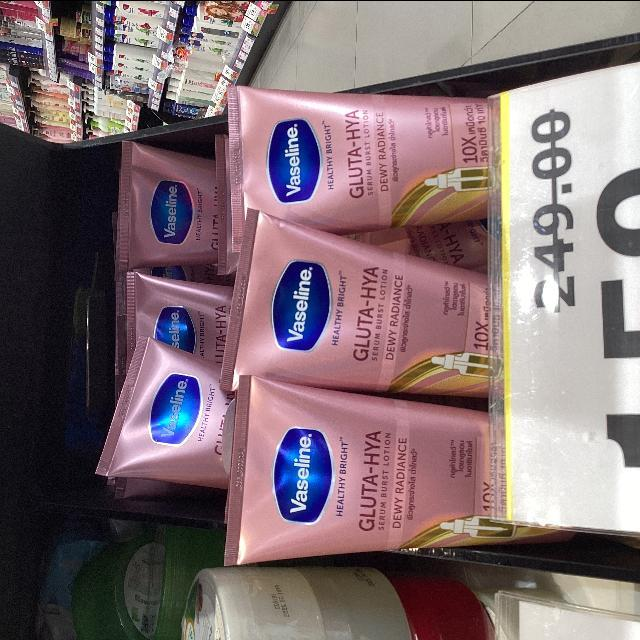Squeeze Tube: (97, 48, 547, 566), (219, 380, 533, 563), (222, 205, 489, 412), (226, 83, 492, 274), (105, 334, 226, 480), (107, 144, 226, 285)
